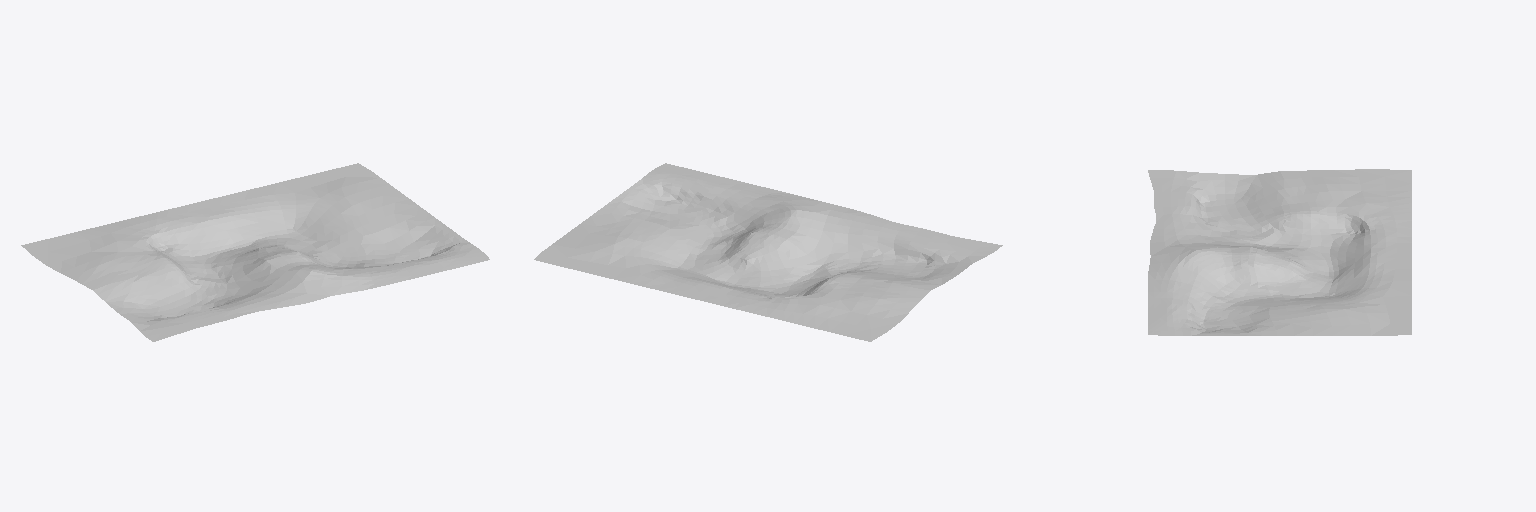
Rendered from Terreno_3.obj.
3 views of the same model, side by side, from view 1: azimuth 30°, elevation 25°; view 2: azimuth 150°, elevation 25°; view 3: azimuth 270°, elevation 25° (orthographic).
Visible parts, largest first — view 1: pCube54; view 2: pCube54; view 3: pCube54.
Boxes of the visible parts, box(x1,y1,x2,y2) form: pCube54: box(21, 163, 489, 341); pCube54: box(534, 163, 1002, 341); pCube54: box(1148, 169, 1411, 335).
Size of the model in its own units: 3857 by 265 by 2587.